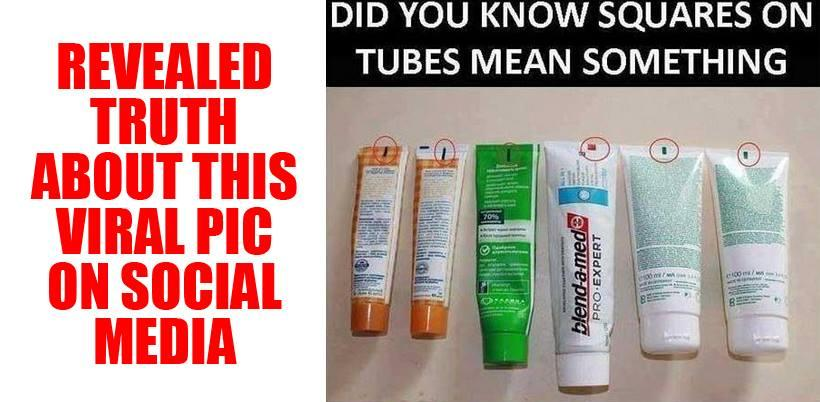toothpaste: (541, 138, 635, 392), (703, 149, 803, 362), (626, 137, 715, 362), (476, 135, 538, 381), (412, 142, 475, 351), (346, 130, 397, 337)
